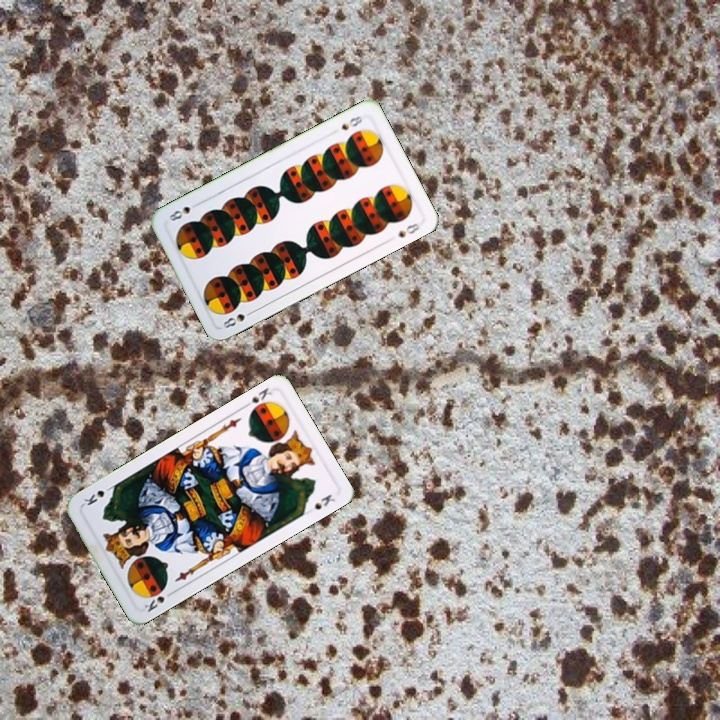S8: (219, 306, 257, 333), (337, 110, 367, 133)
SK: (239, 383, 274, 416), (140, 587, 177, 615)
